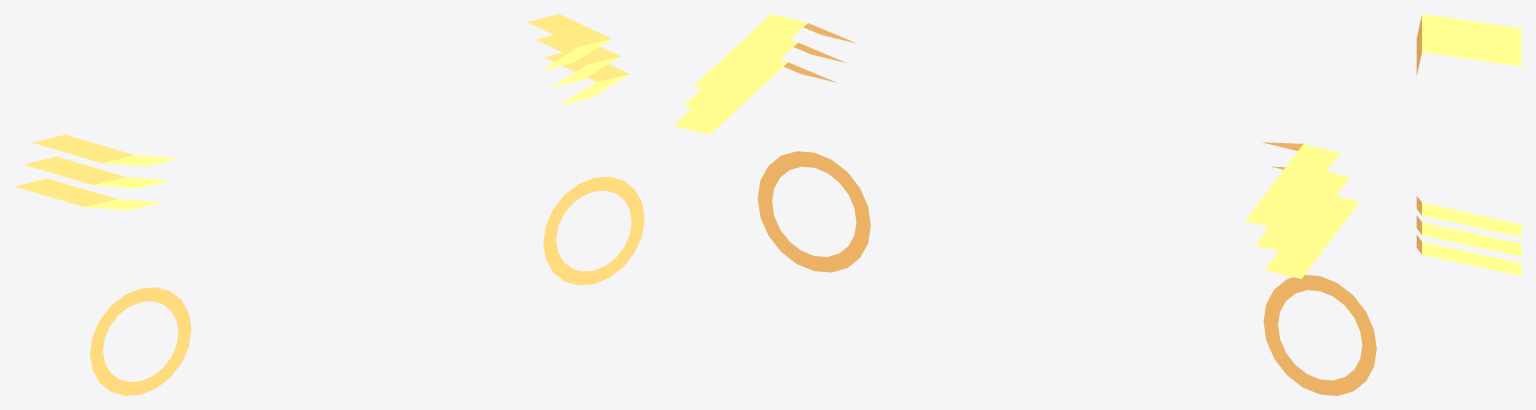
The model's file is ROOK_AWAKENED_BUILD.glb.
3 renders of one model, left to right at view 1: azimuth 30°, elevation 25°; view 2: azimuth 150°, elevation 25°; view 3: azimuth 270°, elevation 25°, orthographic. The views are drawn at different scales.
Visible parts, largest first — view 1: ANI08C_rook-ironside_1_joint_L, ANI08C_rook-ironside_1_joint_R, ANI08C_rook-ironside_1_stratum_L0, ANI08C_rook-ironside_1_stratum_L1, ANI08C_rook-ironside_1_stratum_L2, ANI08C_rook-ironside_1_stratum_R0, ANI08C_rook-ironside_1_stratum_R1, ANI08C_rook-ironside_1_stratum_R2; view 2: ANI08C_rook-ironside_1_joint_R, ANI08C_rook-ironside_1_joint_L, ANI08C_rook-ironside_1_stratum_R0, ANI08C_rook-ironside_1_stratum_L0, ANI08C_rook-ironside_1_stratum_L1, ANI08C_rook-ironside_1_stratum_L2, ANI08C_rook-ironside_1_stratum_R2, ANI08C_rook-ironside_1_stratum_R1; view 3: ANI08C_rook-ironside_1_stratum_L0, ANI08C_rook-ironside_1_stratum_R1, ANI08C_rook-ironside_1_stratum_R0, ANI08C_rook-ironside_1_stratum_R2, ANI08C_rook-ironside_1_stratum_L2, ANI08C_rook-ironside_1_stratum_L1.
Boxes of the visible parts, x1,y1,x2,y2 form: ANI08C_rook-ironside_1_joint_L: (90,287,191,395); ANI08C_rook-ironside_1_joint_R: (543,176,644,285); ANI08C_rook-ironside_1_stratum_L0: (32,134,178,166); ANI08C_rook-ironside_1_stratum_L1: (23,156,169,188); ANI08C_rook-ironside_1_stratum_L2: (15,178,161,210); ANI08C_rook-ironside_1_stratum_R0: (527,14,611,70); ANI08C_rook-ironside_1_stratum_R1: (536,35,620,87); ANI08C_rook-ironside_1_stratum_R2: (544,52,629,105); ANI08C_rook-ironside_1_joint_R: (757,151,870,272); ANI08C_rook-ironside_1_joint_L: (1263,275,1376,395); ANI08C_rook-ironside_1_stratum_R0: (693,14,856,95); ANI08C_rook-ironside_1_stratum_L0: (1245,142,1339,229); ANI08C_rook-ironside_1_stratum_L1: (1255,166,1349,254); ANI08C_rook-ironside_1_stratum_L2: (1265,196,1359,278); ANI08C_rook-ironside_1_stratum_R2: (673,60,836,134); ANI08C_rook-ironside_1_stratum_R1: (683,40,846,114); ANI08C_rook-ironside_1_stratum_L0: (1416,14,1521,50); ANI08C_rook-ironside_1_stratum_R1: (1416,215,1521,256); ANI08C_rook-ironside_1_stratum_R0: (1416,196,1521,237); ANI08C_rook-ironside_1_stratum_R2: (1416,235,1521,276); ANI08C_rook-ironside_1_stratum_L2: (1416,39,1521,75); ANI08C_rook-ironside_1_stratum_L1: (1416,27,1521,63).
Bounding box in the file's own units: 0.954 × 0.374 × 0.21.
